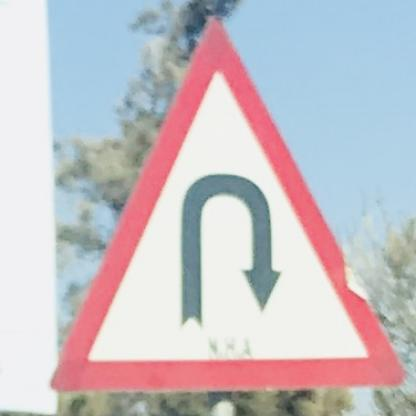U-Turn: (48, 13, 409, 397)
